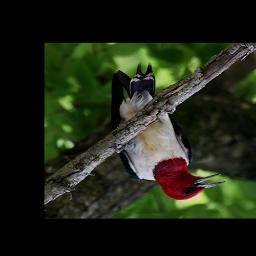Woodpecker: (106, 61, 230, 200)
